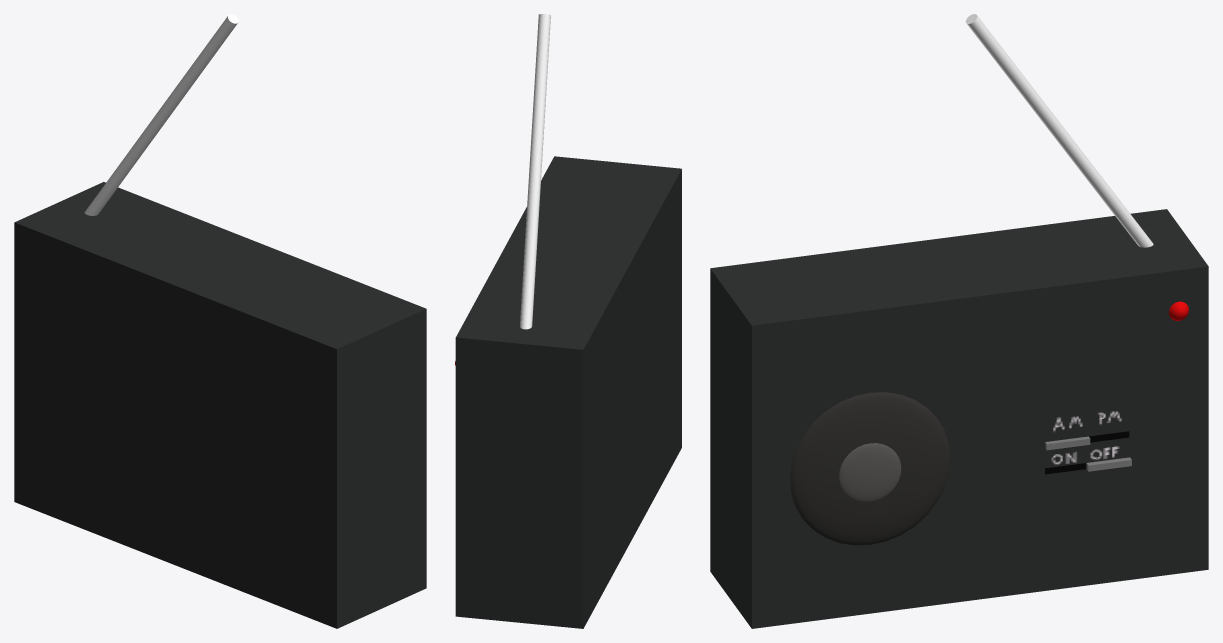
The model's file is radio.glb.
3 renders of one model, left to right at view 1: azimuth 30°, elevation 25°; view 2: azimuth 150°, elevation 25°; view 3: azimuth 270°, elevation 25°, orthographic. The views are drawn at different scales.
Visible parts, largest first — view 1: Cube, Cylinder; view 2: Cube, Cylinder; view 3: Cube, Sphere.001, Cylinder, Sphere.002.
Boxes of the visible parts, x1=… form: Cube: x1=14, y1=182, x2=426, y2=628; Cylinder: x1=84, y1=14, x2=238, y2=215; Cube: x1=455, y1=156, x2=681, y2=628; Cylinder: x1=520, y1=14, x2=550, y2=329; Cube: x1=710, y1=209, x2=1208, y2=628; Sphere.001: x1=790, y1=392, x2=950, y2=545; Cylinder: x1=965, y1=14, x2=1153, y2=247; Sphere.002: x1=839, y1=443, x2=901, y2=502.
Bounding box in the file's own units: 1.65 × 3.72 × 2.98.
Materials: 9 (1 with a texture image).
